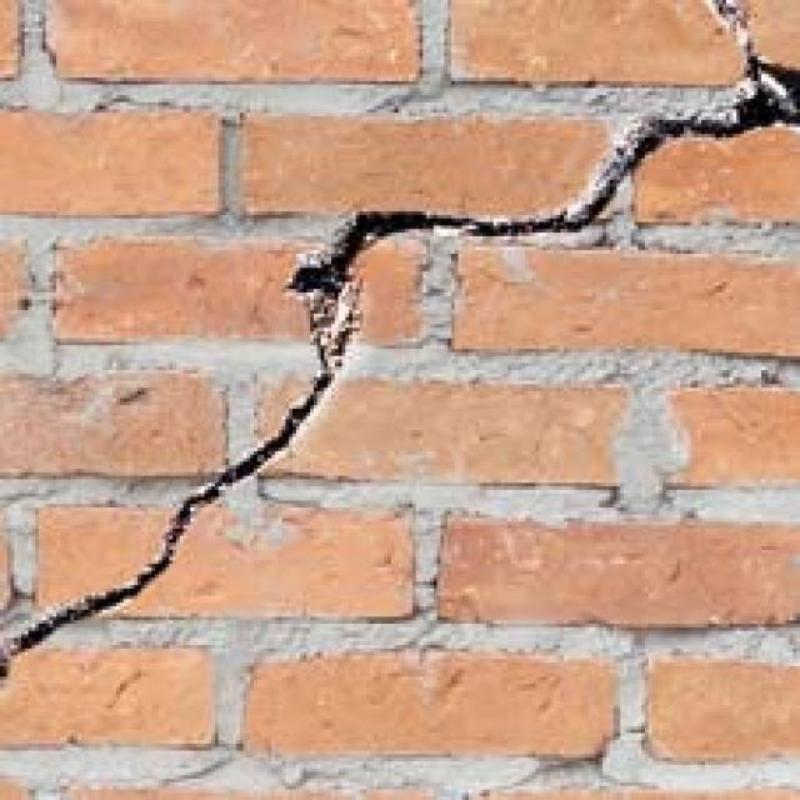pothole: (0, 0, 800, 677)
